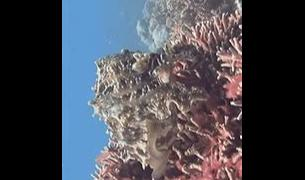bleached_corals: (75, 11, 257, 180), (136, 0, 242, 50)
